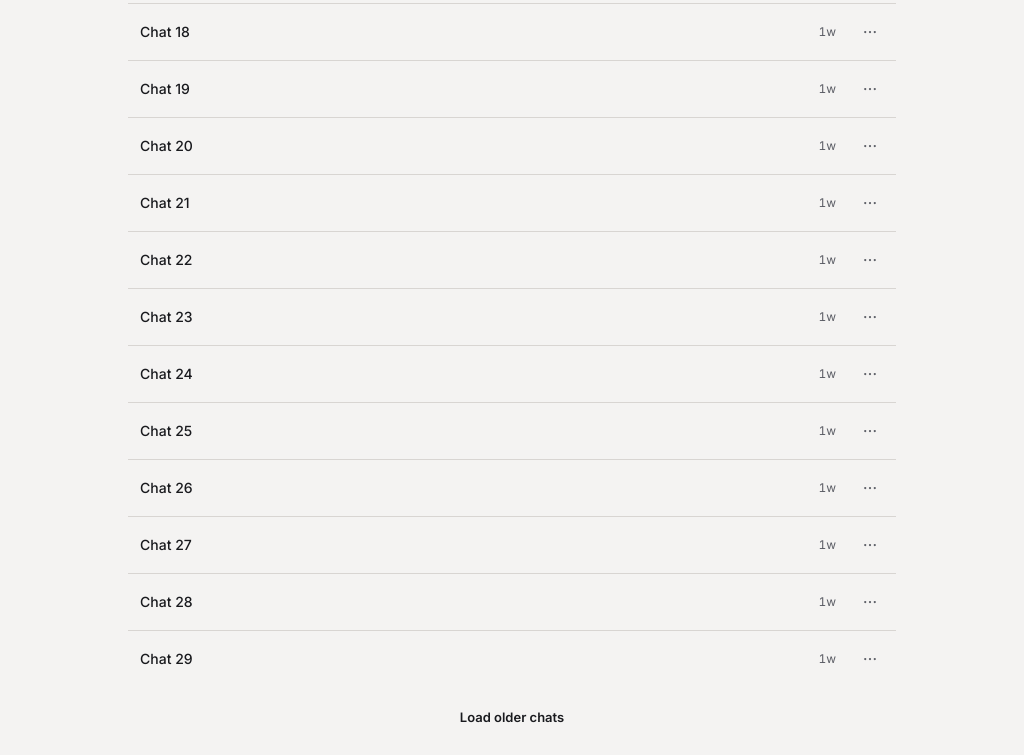
drops a displaced first-page chat deleted in another tab
(page scrolled)
Expected: the button "Chat 29" is shown, [132,637,806,681]
Click the button "Load older chats".
click(512, 717)  # box [447,699,577,735]
(page scrolled)
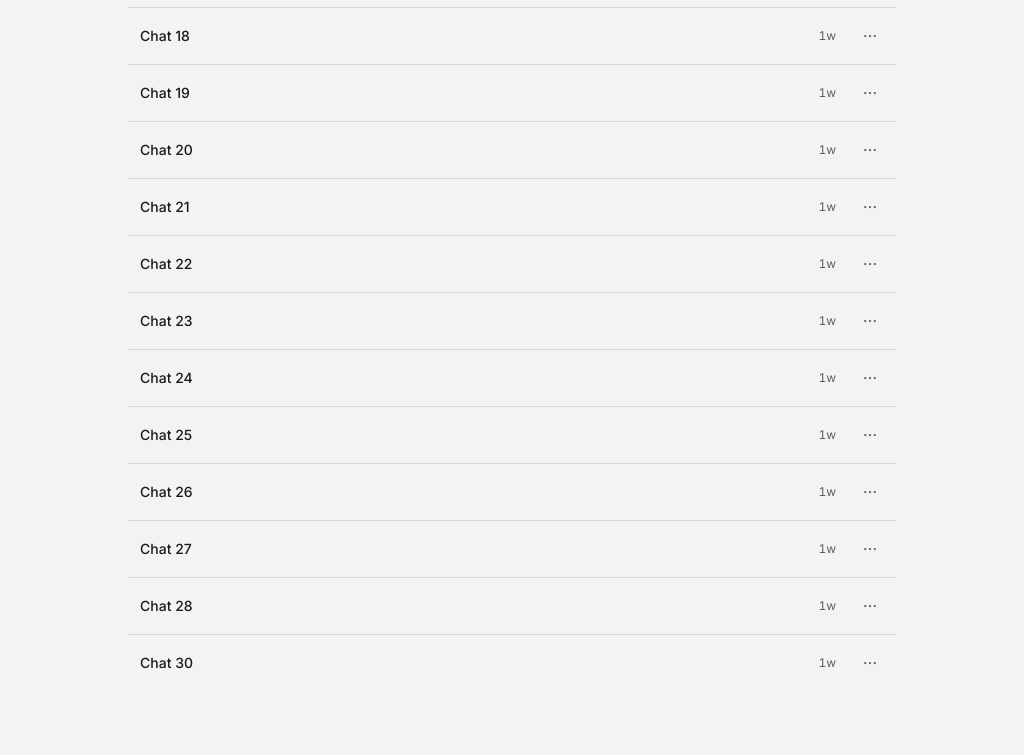
Expected: the button "Chat 30" is shown, [132,641,806,685]
Expected: the button "Chat 29" is gone
